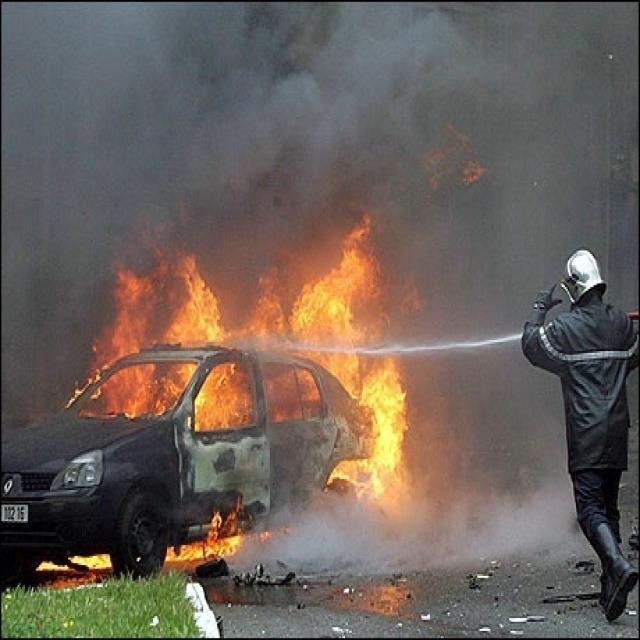Fire: (30, 221, 408, 571)
Smoke: (1, 2, 640, 216), (397, 226, 561, 578), (244, 505, 409, 581)
